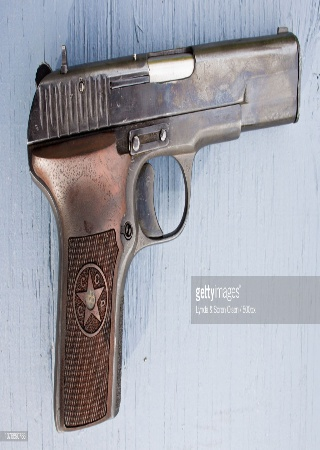handgun: (29, 22, 303, 435)
